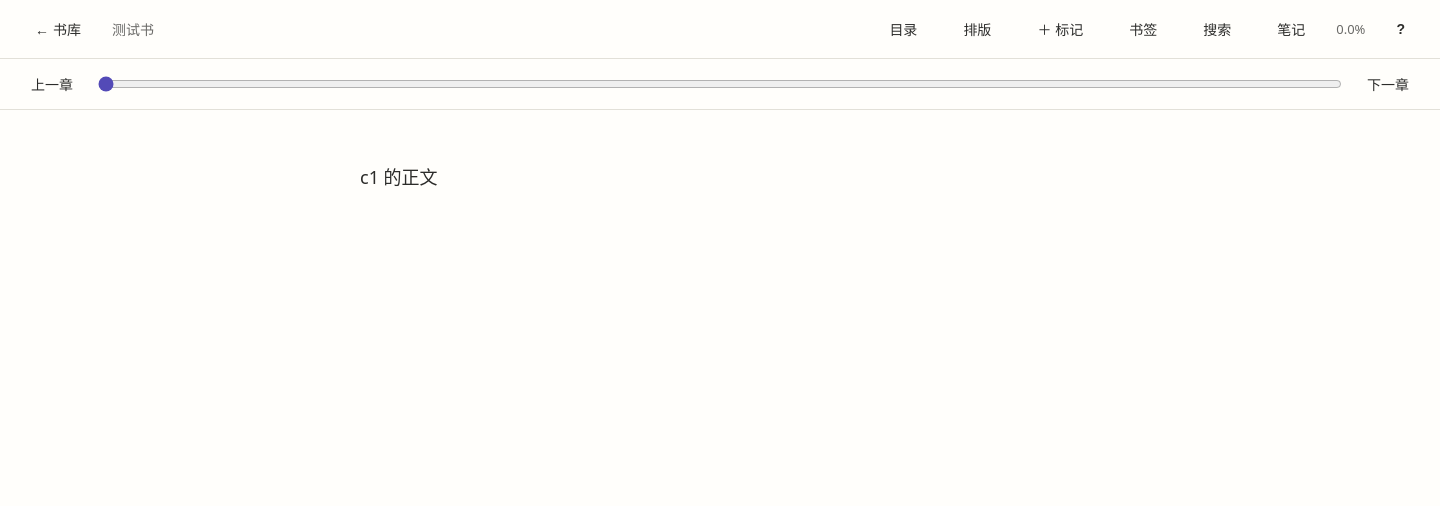
Test: 阅读器 › 添加书签后的提示指明查看入口
The image size is (1440, 506).
Expected: the text "c1 的正文" is shown, x1=360 y1=165 x2=438 y2=189
Click the button "＋ 标记". click: (1060, 29)
box: x1=1022 y1=10 x2=1098 y2=48
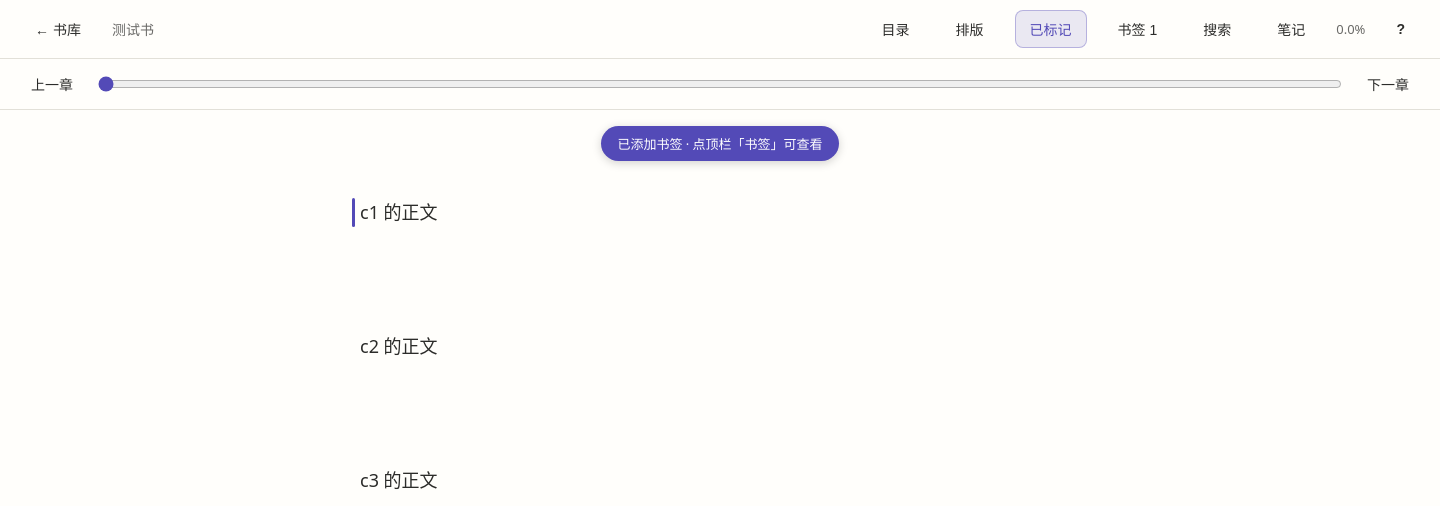
Expected: the text "已添加书签 · 点顶栏「书签」可查看" is shown, x1=601 y1=126 x2=839 y2=161
